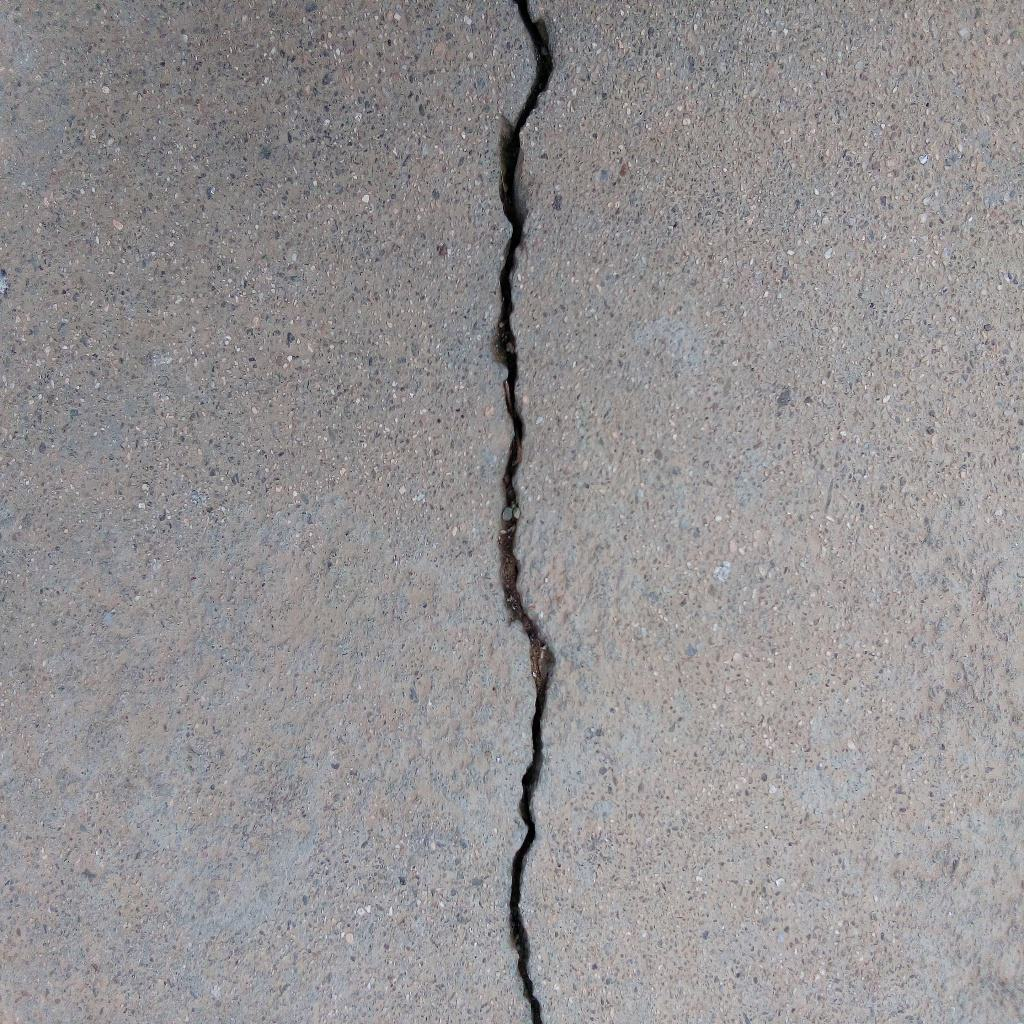Crack: (492, 1, 558, 1024)
